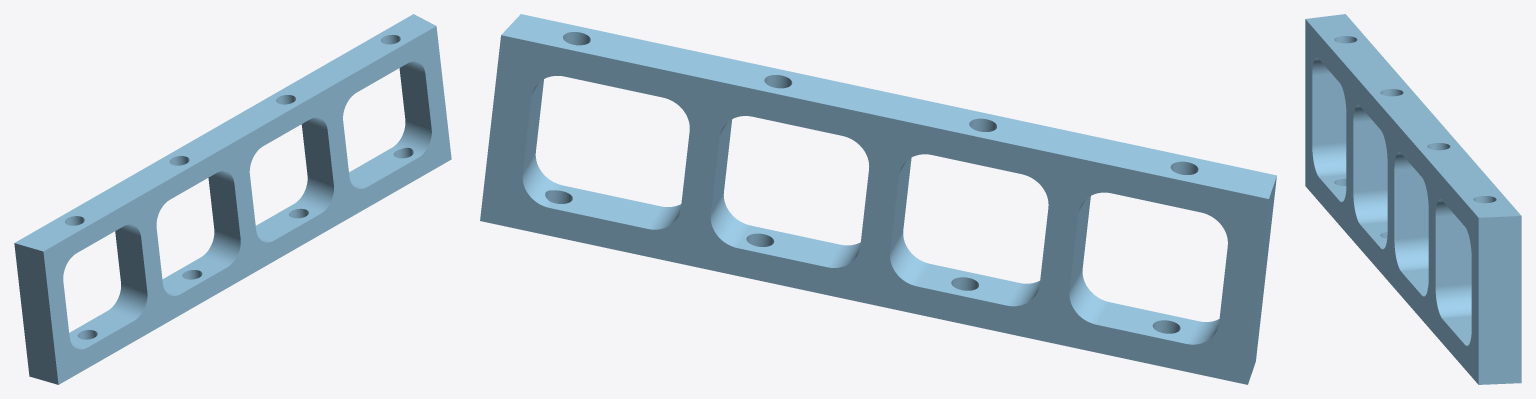
The picture shows the model from 3 angles, left to right: view 1: azimuth 30°, elevation 25°; view 2: azimuth 150°, elevation 25°; view 3: azimuth 270°, elevation 25°; orthographic projection. The views are drawn at different scales.
Parts seen in each view (by area): view 1: mesh3506, mesh3475, mesh3477, mesh3502, mesh3484, mesh3497, mesh3468, mesh3501, mesh3487, mesh3473, mesh3491, mesh3485 (+3 smaller); view 2: mesh3507, mesh3475, mesh3501, mesh3487, mesh3491, mesh3473, mesh3477, mesh3498, mesh3485, mesh3471, mesh3500, mesh3497 (+3 smaller); view 3: mesh3506, mesh3475, mesh3476, mesh3508, mesh3470, mesh3493, mesh3482, mesh3509, mesh3486, mesh3492, mesh3472, mesh3501 (+7 smaller).
Boxes of the visible parts, x1,y1,x2,y2 form: mesh3506: (43, 26, 451, 384); mesh3475: (15, 14, 435, 251); mesh3477: (14, 243, 58, 384); mesh3502: (399, 65, 431, 128); mesh3484: (115, 229, 147, 291); mesh3497: (208, 175, 240, 238); mesh3468: (301, 122, 333, 185); mesh3501: (349, 148, 417, 186); mesh3487: (69, 311, 133, 347); mesh3473: (255, 204, 320, 240); mesh3491: (162, 257, 226, 293); mesh3485: (108, 282, 147, 320); mesh3507: (480, 35, 1268, 384); mesh3475: (501, 14, 1276, 198); mesh3501: (550, 185, 660, 228); mesh3487: (1096, 302, 1198, 343); mesh3491: (917, 264, 1019, 305); mesh3473: (738, 225, 839, 266); mesh3477: (1248, 176, 1276, 383); mesh3498: (890, 231, 929, 286); mesh3485: (1069, 269, 1109, 324); mesh3471: (710, 192, 750, 247); mesh3500: (522, 152, 562, 207); mesh3497: (890, 157, 911, 251); mesh3506: (1305, 19, 1478, 384); mesh3475: (1306, 14, 1521, 217); mesh3476: (1478, 216, 1521, 384); mesh3508: (1435, 215, 1471, 286); mesh3470: (1394, 168, 1428, 239); mesh3493: (1353, 121, 1387, 192); mesh3482: (1312, 74, 1346, 144); mesh3509: (1435, 283, 1471, 318); mesh3486: (1312, 142, 1346, 177); mesh3492: (1353, 189, 1387, 224); mesh3472: (1394, 236, 1428, 271); mesh3501: (1443, 316, 1471, 344).
Bounding box in the file's own units: 0.0768 × 0.0289 × 0.0251.
